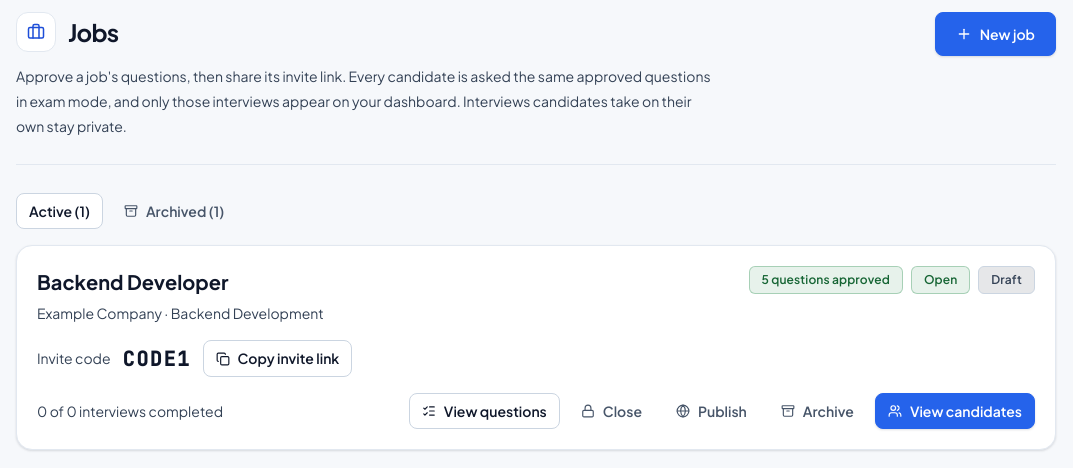
Test: archiving a job moves it out of the active list
Click the button with aria-label "Archive Backend Developer" at (817,411), box [768,393,867,429]
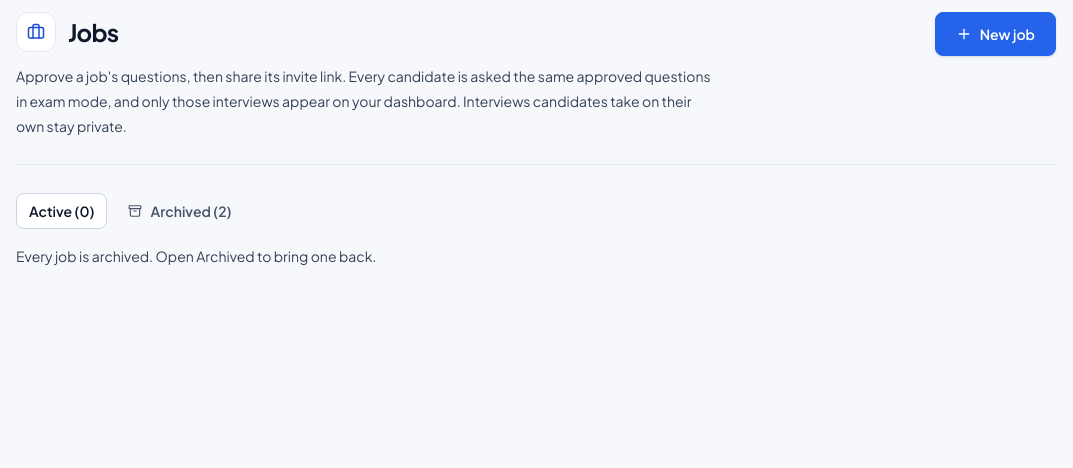
Check: the button "Archived (2)" is shown, box [116,193,245,229]
Check: the text "Every job is archived." is shown, box [16,247,376,265]
